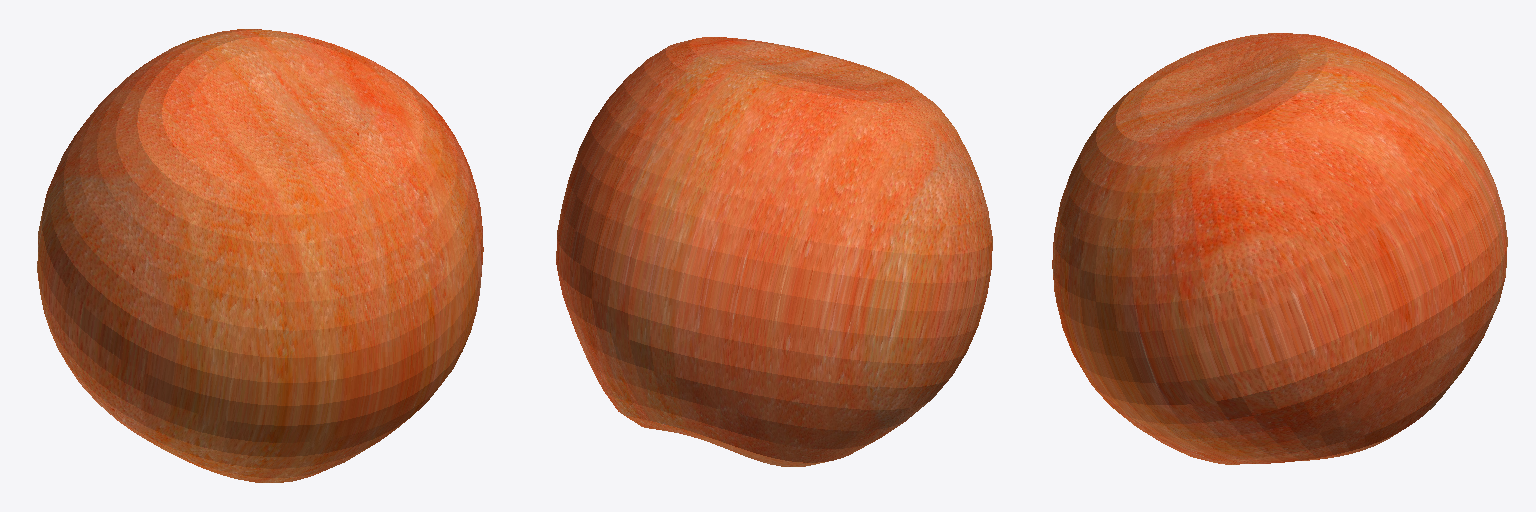
The picture shows the model from 3 angles: view 1: azimuth 30°, elevation 25°; view 2: azimuth 150°, elevation 25°; view 3: azimuth 270°, elevation 25°; orthographic projection.
Parts seen in each view (by area): view 1: Grapefruit02; view 2: Grapefruit02, Grapefruit_Top02; view 3: Grapefruit02.
Part boxes in pixels (bbox=[...]): Grapefruit02: bbox=[37, 29, 483, 482]; Grapefruit02: bbox=[556, 37, 992, 462]; Grapefruit_Top02: bbox=[624, 415, 828, 466]; Grapefruit02: bbox=[1052, 33, 1507, 464].
Bounding box in the file's own units: 1.01 × 0.9928 × 1.04.
3 materials, 2 textured.